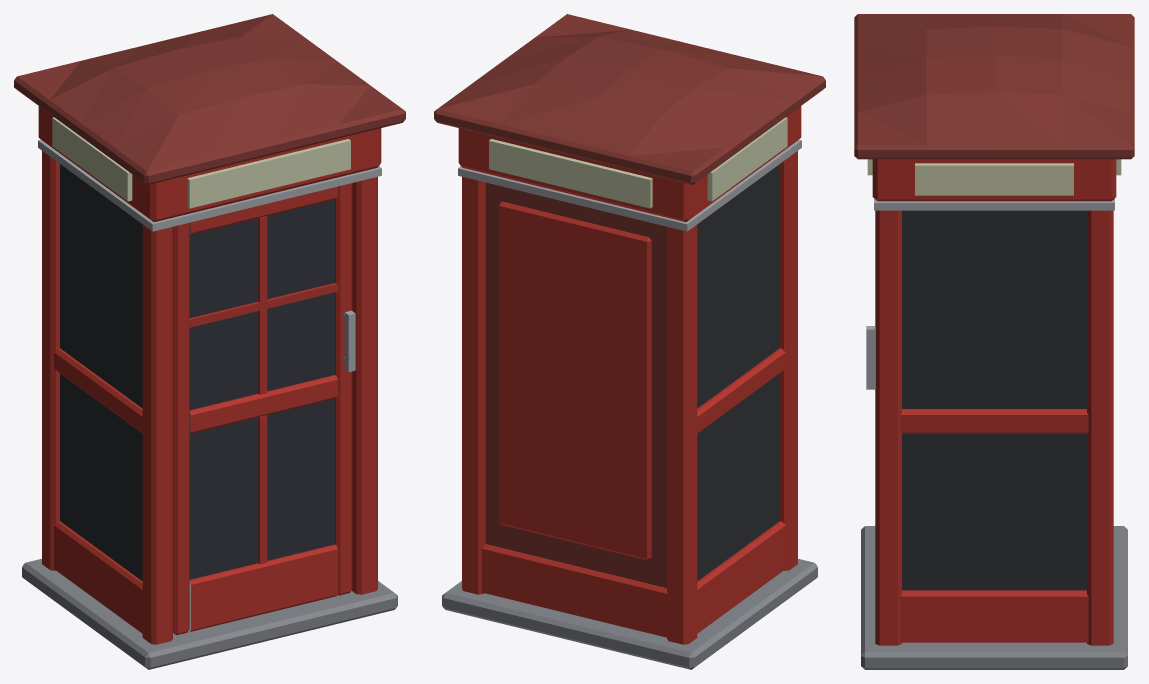
The model's file is phone-booth-10967f.glb.
3 views of the same model, side by side, from view 1: azimuth 30°, elevation 25°; view 2: azimuth 150°, elevation 25°; view 3: azimuth 270°, elevation 25° (orthographic). The views are drawn at different scales.
Parts seen in each view (by area): view 1: phone-booth-body, door-leaf; view 2: phone-booth-body; view 3: phone-booth-body, door-leaf.
Part boxes in pixels (x1,y1,x2,y2): phone-booth-body: [14, 14, 405, 669]; door-leaf: [173, 183, 355, 635]; phone-booth-body: [434, 14, 825, 669]; phone-booth-body: [854, 14, 1134, 669]; door-leaf: [866, 326, 874, 389].
Size of the model in its own units: 1.2 by 2.3 by 1.06.
